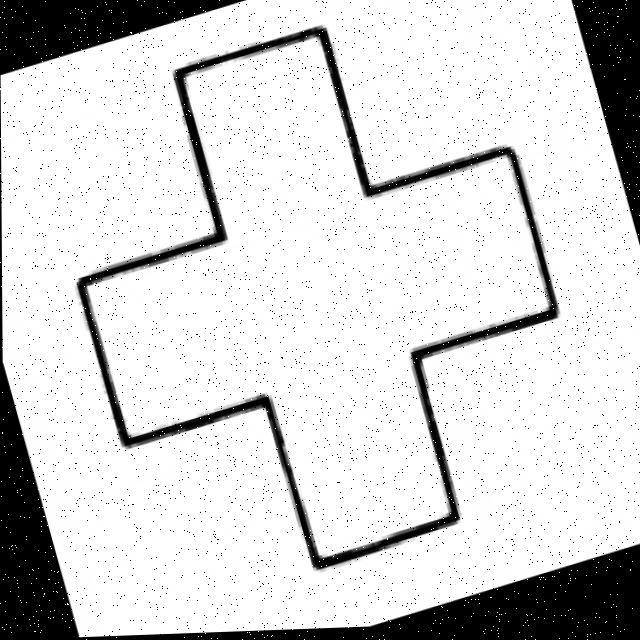cross: (49, 30, 570, 563)
